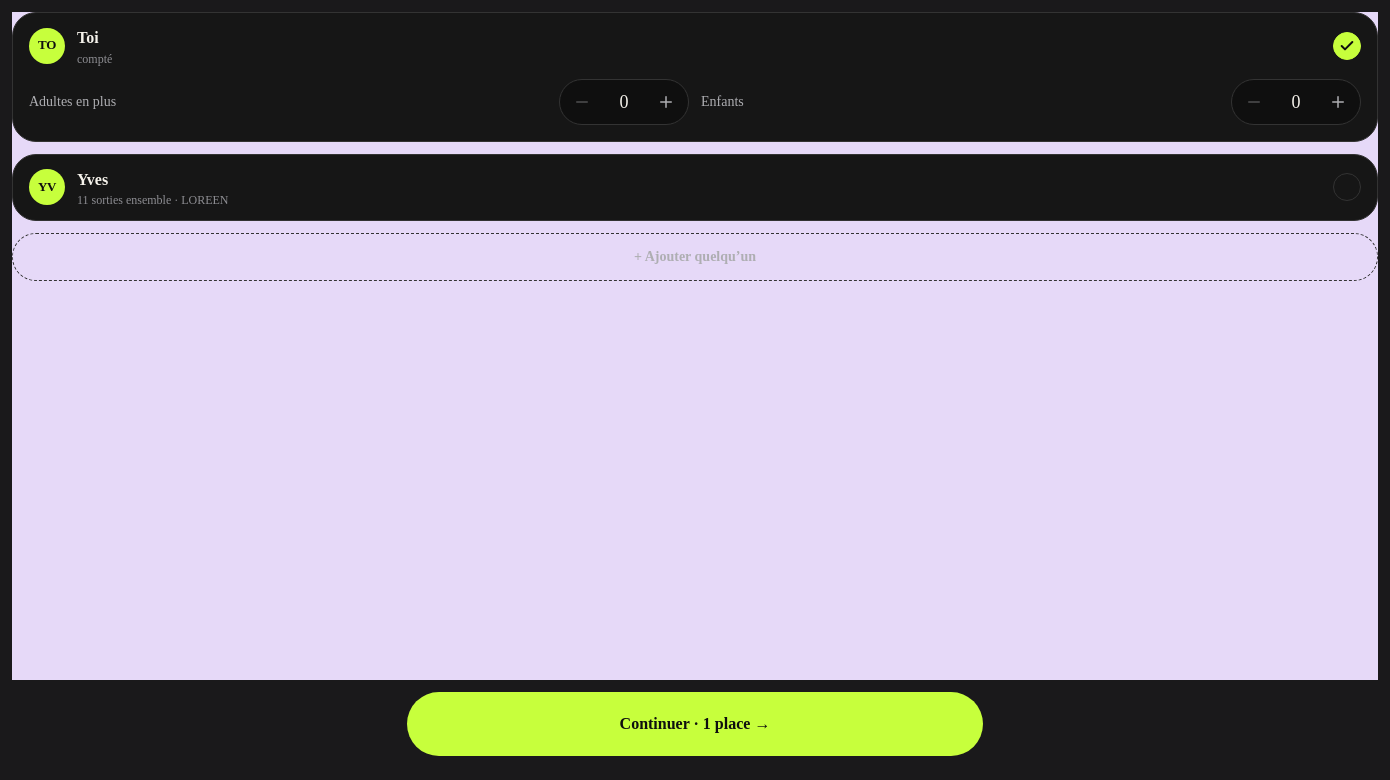
Test: WhoIsComingForm › ajoute une nouvelle personne cochée sous « Toi »
Step 1. Click the button "+ Ajouter quelqu’un" → {"x": 695, "y": 257}, box left=12, top=233, right=1378, bottom=281
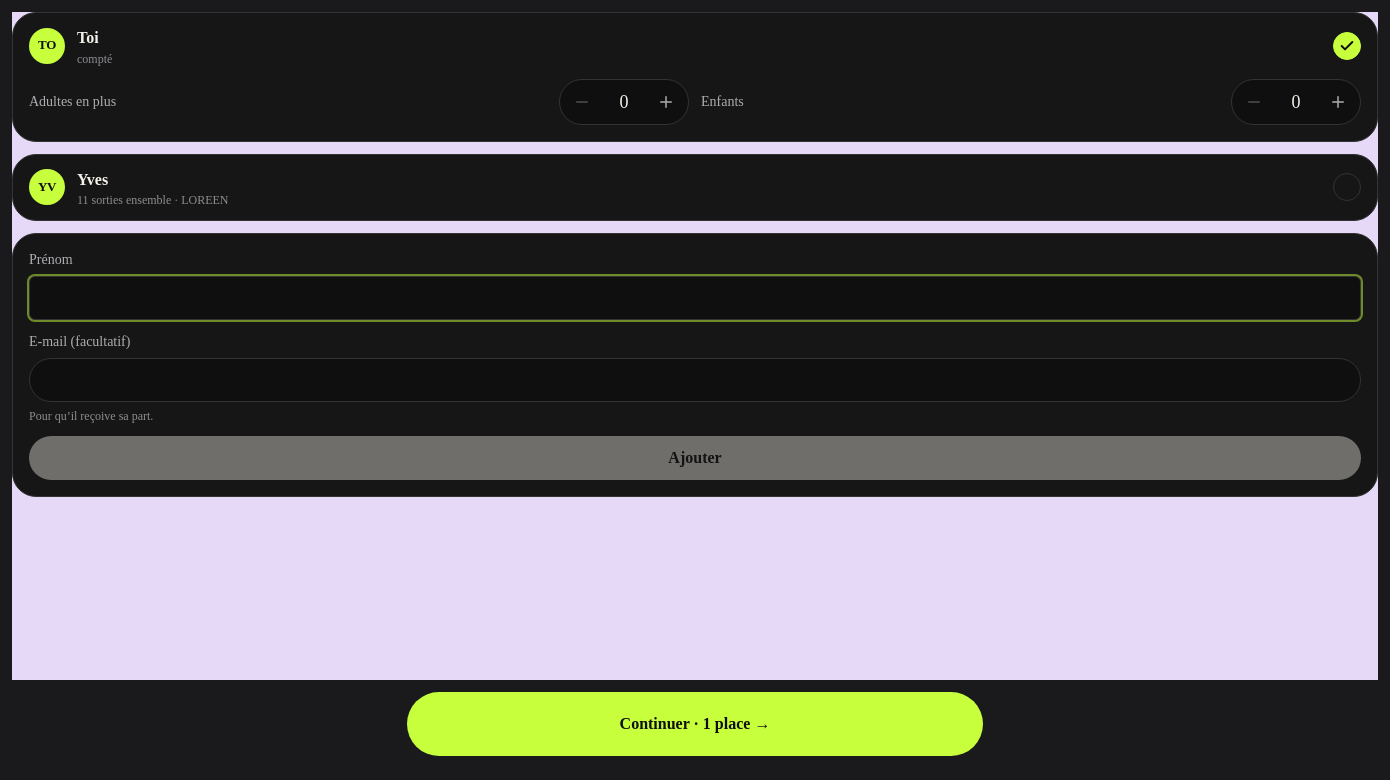
Step 2. Type "Léa" into the field labelled "Prénom" → {"x": 695, "y": 298}, box left=29, top=276, right=1361, bottom=320
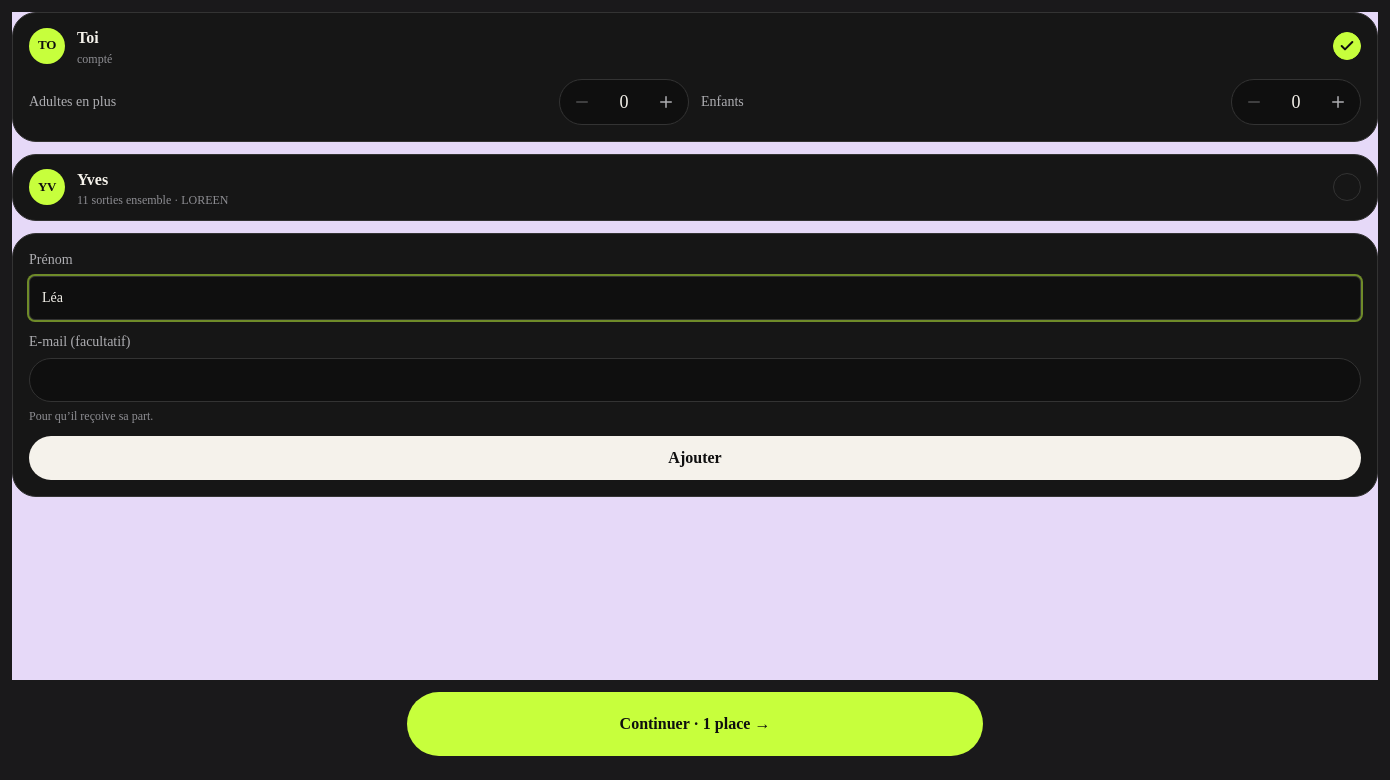
Step 3. Click the button "Ajouter" → {"x": 695, "y": 458}, box left=29, top=436, right=1361, bottom=480
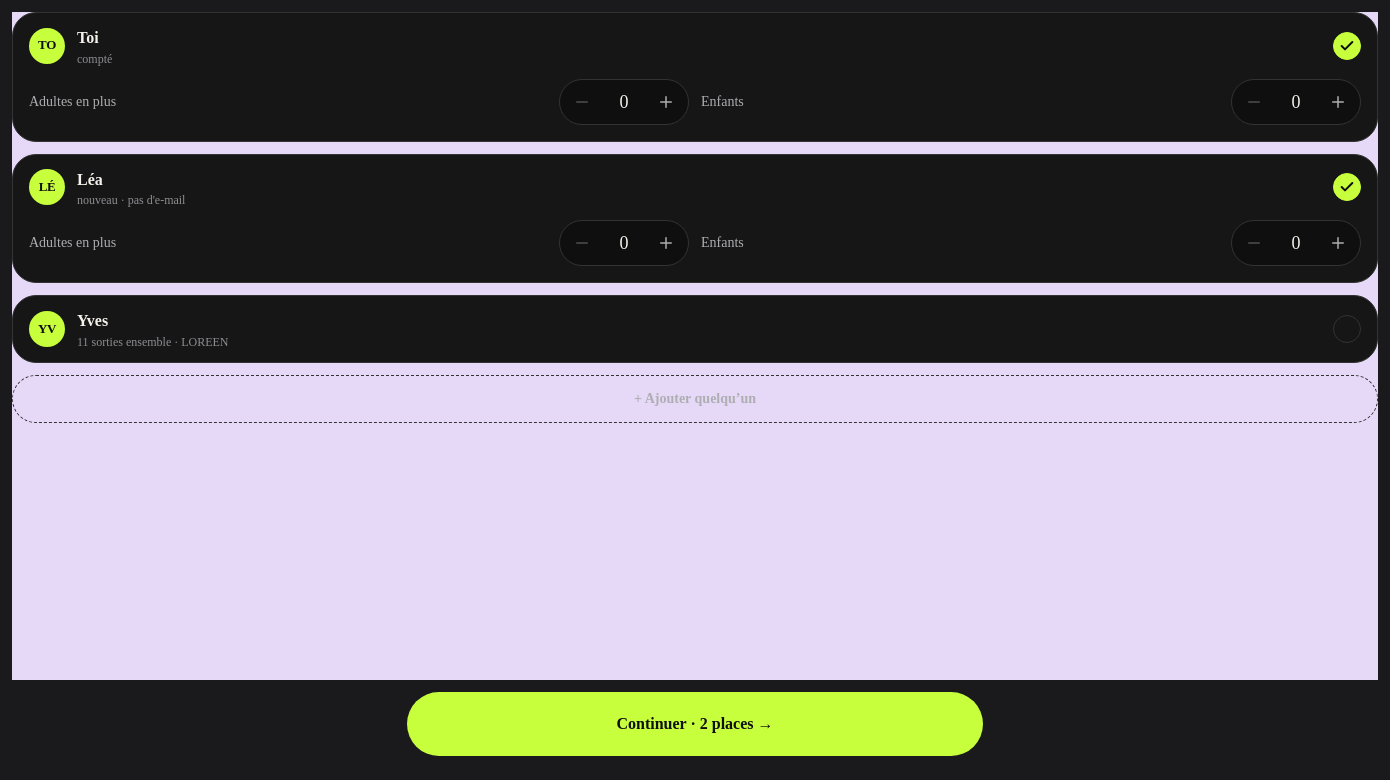
Expected: the button "Continuer · 2 places →" is shown, left=407, top=692, right=983, bottom=756
